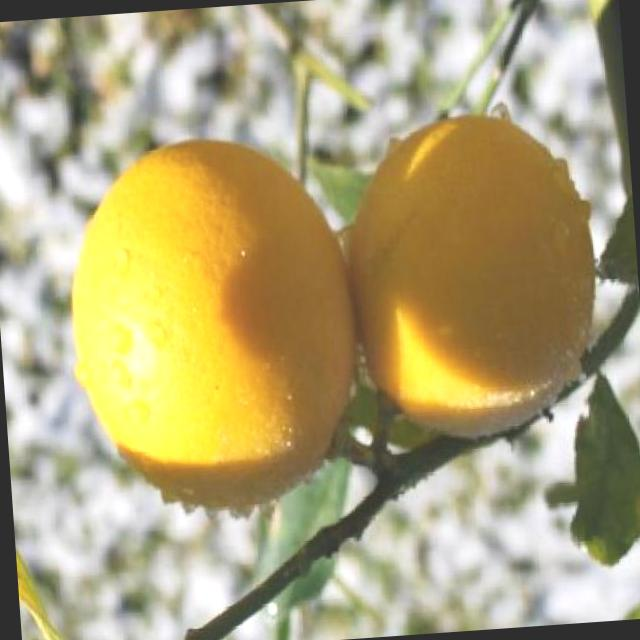Orange: (56, 127, 370, 531), (334, 104, 616, 449)
